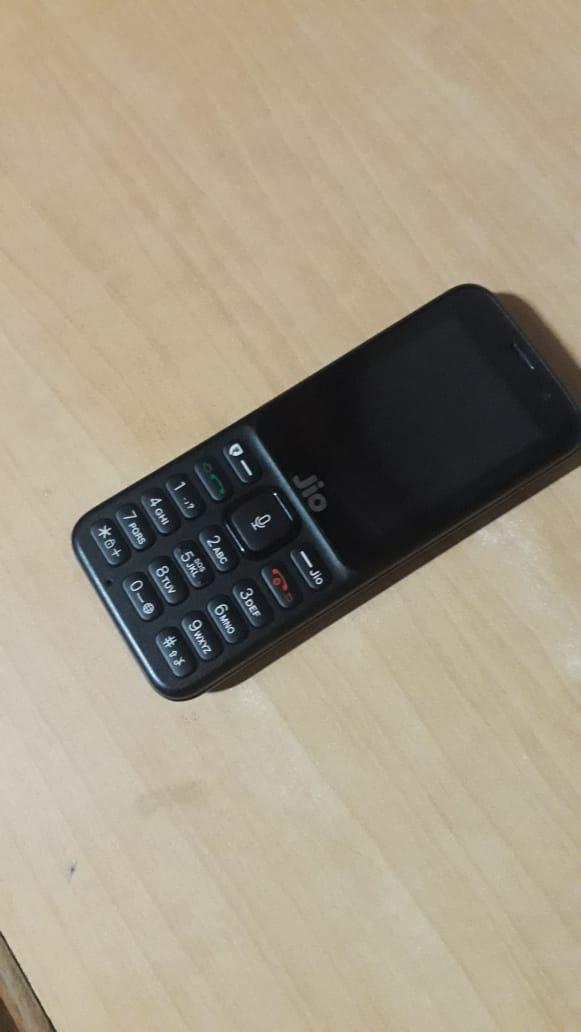Phone: (51, 267, 581, 726)
